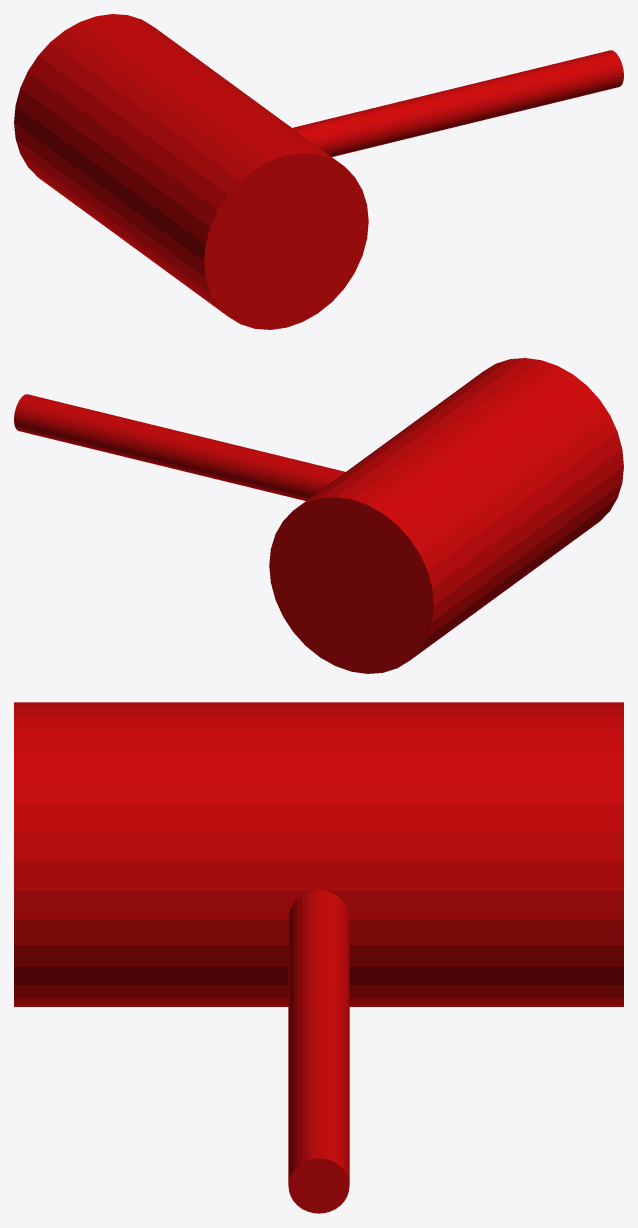
Rendered from hammer.obj.
3 renders of one model, top to bottom at view 1: azimuth 30°, elevation 25°; view 2: azimuth 150°, elevation 25°; view 3: azimuth 270°, elevation 25°, orthographic. The views are drawn at different scales.
Visible parts, largest first — view 1: Cylinder; view 2: Cylinder; view 3: Cylinder.
Boxes of the visible parts, x1,y1,x2,y2 form: Cylinder: (14, 14, 623, 329); Cylinder: (14, 358, 623, 673); Cylinder: (14, 702, 623, 1213).
Size of the model in its own units: 6.14 by 2 by 4.
